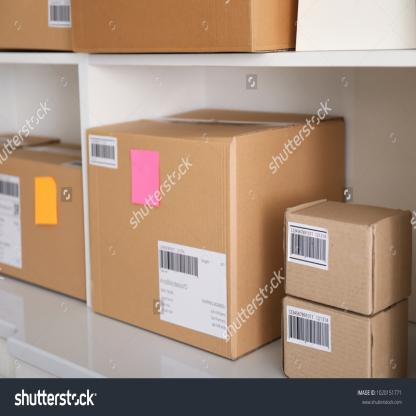box: (87, 126, 233, 359), (0, 150, 86, 301), (286, 212, 374, 312), (283, 296, 371, 378)
